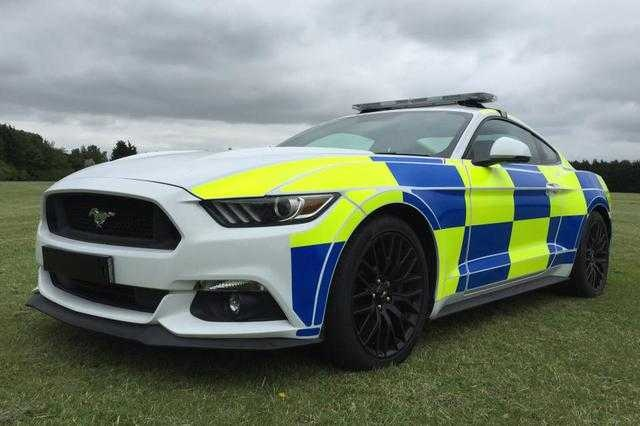Police Car: (42, 61, 616, 378)
